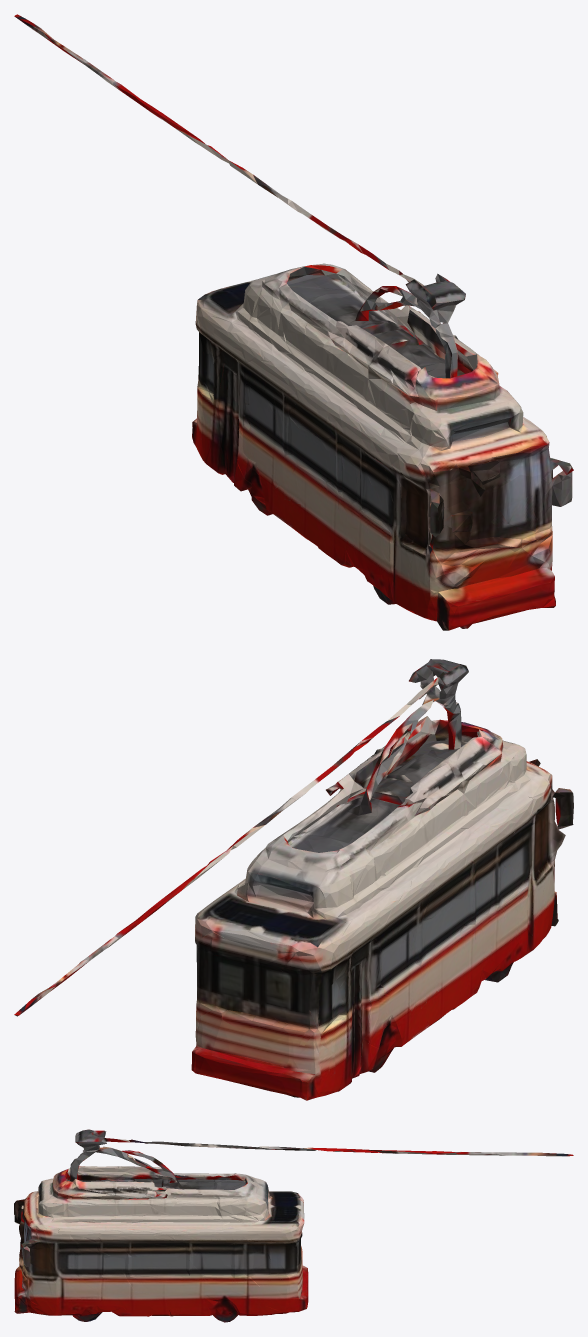
The model's file is bj89_trolleybus.glb.
3 renders of one model, top to bottom at view 1: azimuth 30°, elevation 25°; view 2: azimuth 150°, elevation 25°; view 3: azimuth 270°, elevation 25°, orthographic. The views are drawn at different scales.
Parts seen in each view (by area): view 1: bj89_trolleybus_tex; view 2: bj89_trolleybus_tex; view 3: bj89_trolleybus_tex.
Part boxes in pixels (left/top/right/bottom): bj89_trolleybus_tex: left=14, top=14, right=573, bottom=630; bj89_trolleybus_tex: left=14, top=659, right=573, bottom=1100; bj89_trolleybus_tex: left=14, top=1129, right=573, bottom=1322.
Size of the model in its own units: 1.89 by 3.72 by 10.8.
Materials: 1 (1 with a texture image).
